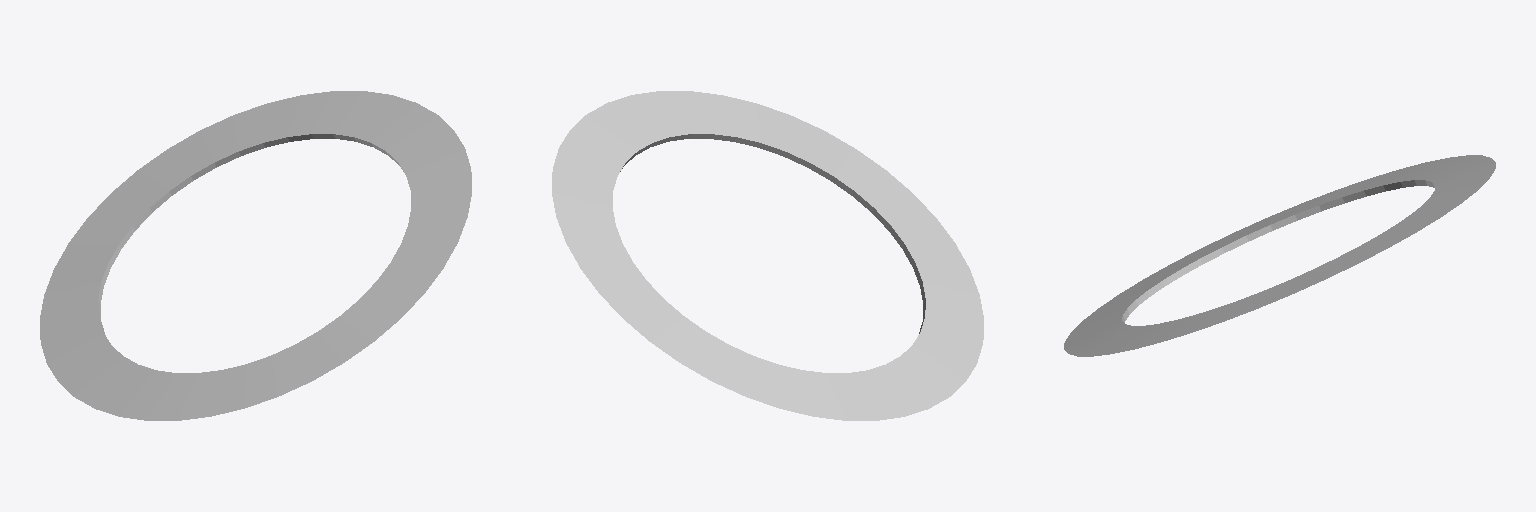
File: anelli.obj
3 views of the same model, side by side, from view 1: azimuth 30°, elevation 25°; view 2: azimuth 150°, elevation 25°; view 3: azimuth 330°, elevation 25° (orthographic).
Visible parts, largest first — view 1: Torus; view 2: Torus; view 3: Torus.
Boxes of the visible parts, x1,y1,x2,y2 form: Torus: [40, 91, 471, 420]; Torus: [552, 91, 983, 420]; Torus: [1064, 155, 1495, 356].
Bounding box in the file's own units: 40.63 × 20.7 × 45.6.